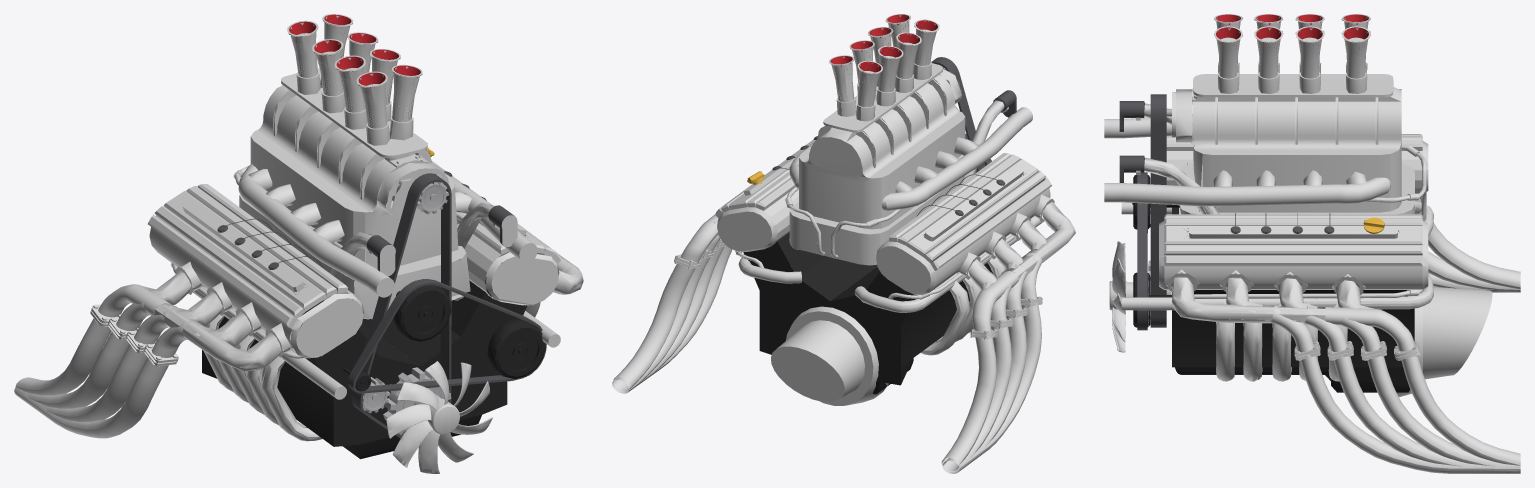
The model's file is engine.glb.
3 renders of one model, left to right at view 1: azimuth 30°, elevation 25°; view 2: azimuth 150°, elevation 25°; view 3: azimuth 270°, elevation 25°, orthographic. The views are drawn at different scales.
Visible parts, largest first — view 1: P134, P141, P150, P60, P135, P52, P77, P76, P142, P79, P78, P132 (+36 smaller); view 2: P144, P134, P149, P143, P60, P76, P135, P69, P137, P52, P77, P158 (+27 smaller); view 3: P141, P62, P59, P125, P154, P142, P143, P90, P73, P69, P75, P74 (+39 smaller).
Part boxes in pixels (x1=…): P134: x1=108, y1=90, x2=399, y2=441; P141: x1=273, y1=90, x2=583, y2=319; P150: x1=314, y1=290, x2=527, y2=446; P60: x1=257, y1=85, x2=396, y2=211; P135: x1=287, y1=20, x2=390, y2=145; P52: x1=238, y1=164, x2=390, y2=295; P77: x1=16, y1=321, x2=201, y2=438; P76: x1=15, y1=284, x2=172, y2=395; P142: x1=319, y1=14, x2=422, y2=140; P79: x1=14, y1=308, x2=175, y2=421; P78: x1=18, y1=302, x2=149, y2=408; P132: x1=334, y1=245, x2=449, y2=438; P144: x1=674, y1=122, x2=881, y2=269; P134: x1=862, y1=79, x2=1075, y2=355; P149: x1=743, y1=241, x2=916, y2=385; P143: x1=771, y1=311, x2=873, y2=405; P60: x1=846, y1=75, x2=959, y2=177; P76: x1=941, y1=271, x2=1018, y2=470; P135: x1=856, y1=19, x2=939, y2=121; P69: x1=613, y1=214, x2=718, y2=391; P137: x1=830, y1=218, x2=1003, y2=339; P52: x1=881, y1=107, x2=1032, y2=210; P77: x1=943, y1=253, x2=1042, y2=473; P158: x1=901, y1=263, x2=1005, y2=366; P141: x1=1144, y1=88, x2=1386, y2=381; P62: x1=1192, y1=101, x2=1401, y2=154; P59: x1=1202, y1=154, x2=1390, y2=212; P125: x1=1104, y1=177, x2=1390, y2=206; P154: x1=1172, y1=290, x2=1414, y2=367; P142: x1=1214, y1=26, x2=1370, y2=93; P143: x1=1423, y1=287, x2=1492, y2=379; P90: x1=1164, y1=266, x2=1422, y2=288; P73: x1=1271, y1=305, x2=1520, y2=473; P69: x1=1325, y1=307, x2=1520, y2=465; P75: x1=1304, y1=306, x2=1520, y2=473; P74: x1=1340, y1=316, x2=1516, y2=466.
Bounding box in the file's own units: 0.6917 × 0.6226 × 0.6344.
